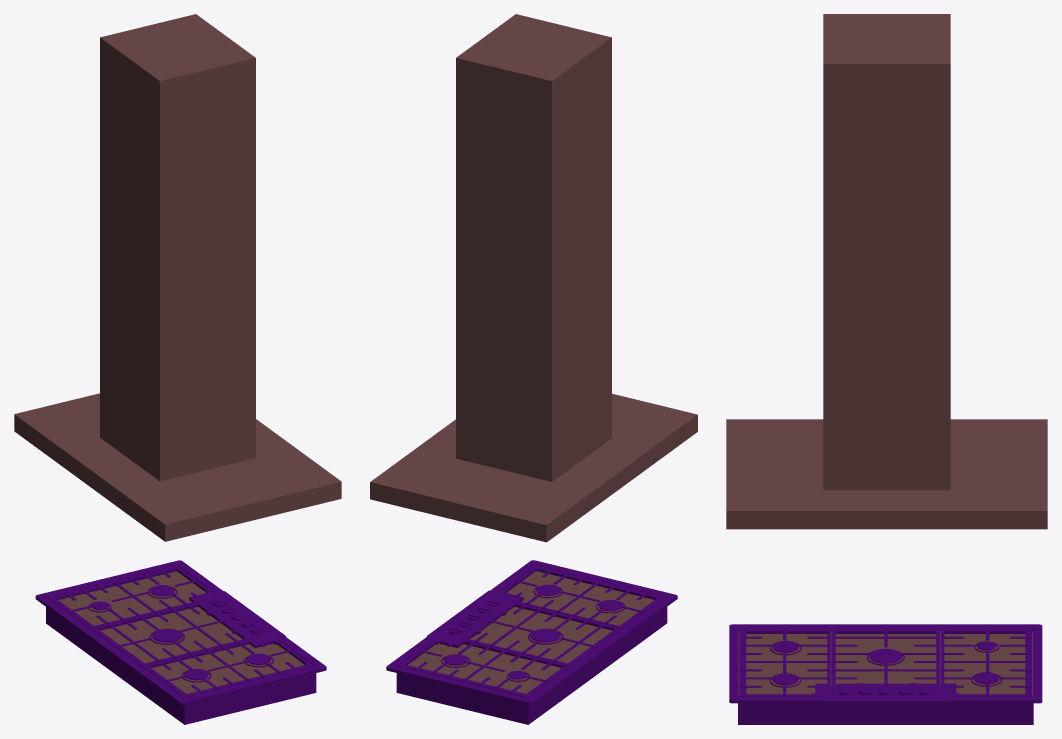
3 renders of one model, left to right at view 1: azimuth 30°, elevation 25°; view 2: azimuth 150°, elevation 25°; view 3: azimuth 270°, elevation 25°, orthographic. The views are drawn at different scales.
Parts seen in each view (by area): view 1: pCube184; view 2: pCube184; view 3: pCube184.
Boxes of the visible parts, x1=… form: pCube184: x1=14, y1=14, x2=341, y2=724; pCube184: x1=370, y1=14, x2=697, y2=724; pCube184: x1=726, y1=14, x2=1047, y2=724.
Bounding box in the file's own units: 71.85 × 238 × 106.
